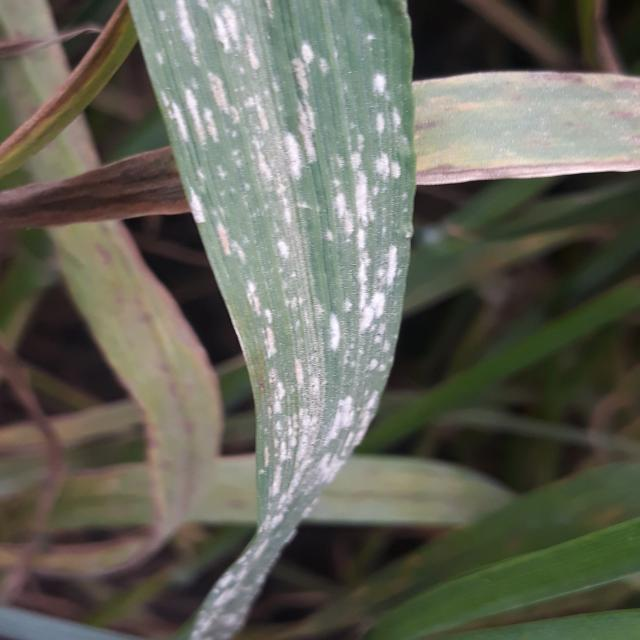powder_mildew: (118, 0, 420, 640), (414, 68, 640, 186)
